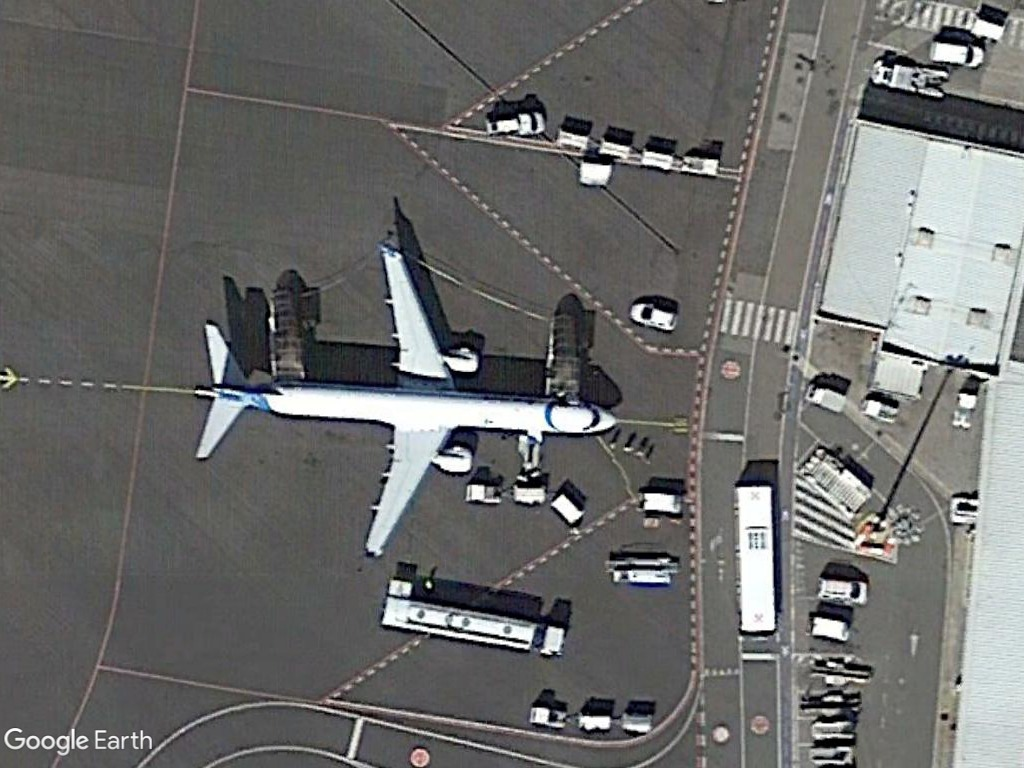airliner: (188, 237, 620, 565)
bus: (729, 480, 782, 646)
car: (628, 297, 682, 333)
longvehicle: (377, 589, 570, 662)
pushbacktruck: (869, 54, 949, 102)
van: (803, 380, 855, 417), (816, 576, 871, 610), (926, 39, 987, 68)
